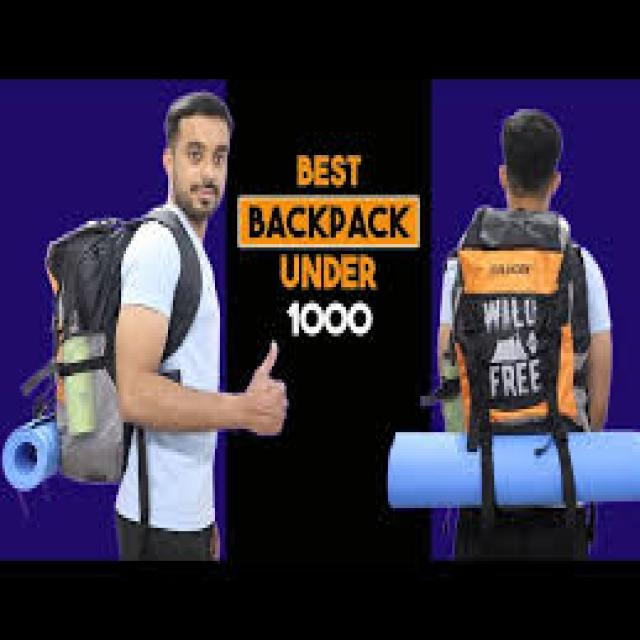backpack: (434, 201, 598, 534), (46, 209, 201, 486)
